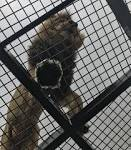lion: (9, 17, 90, 150)
